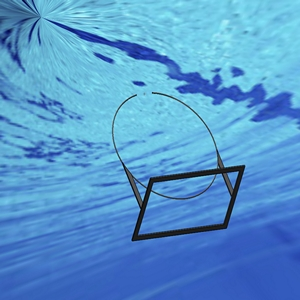circle: (109, 88, 244, 243)
